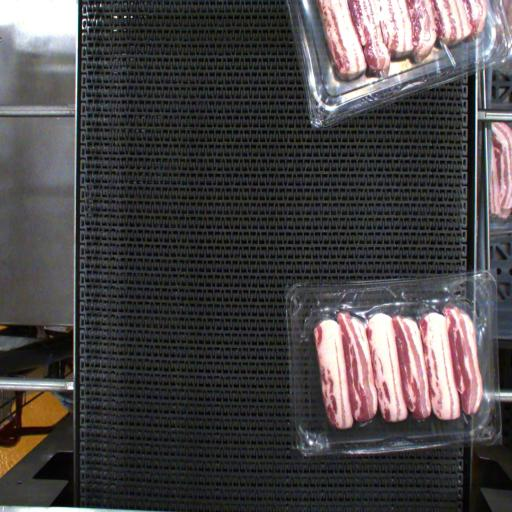unsealed: (285, 281, 501, 444)
